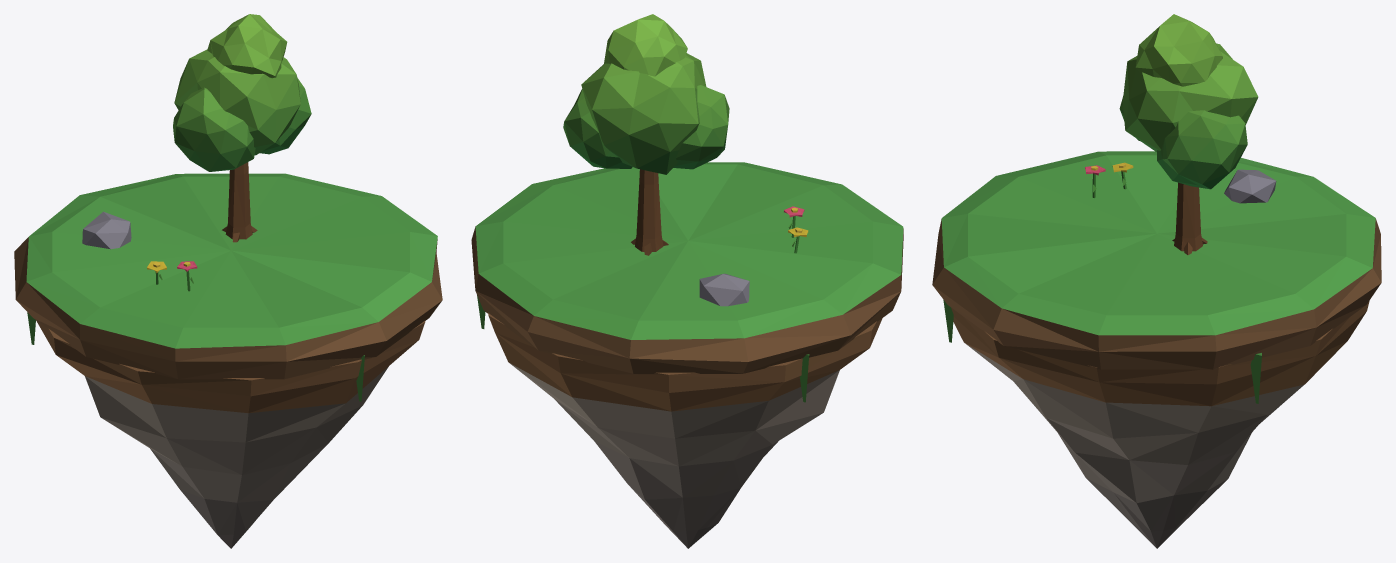
Rendered from Prop_SmallIsland.fbx.
3 views of the same model, side by side, from view 1: azimuth 30°, elevation 25°; view 2: azimuth 150°, elevation 25°; view 3: azimuth 270°, elevation 25° (orthographic). The views are drawn at different scales.
Parts seen in each view (by area): view 1: Body; view 2: Body; view 3: Body.
Boxes of the visible parts, left/top/right/bottom form: Body: left=14, top=14, right=442, bottom=548; Body: left=471, top=14, right=903, bottom=548; Body: left=932, top=14, right=1381, bottom=548.
Size of the model in its own units: 12.86 by 17.2 by 12.85.
